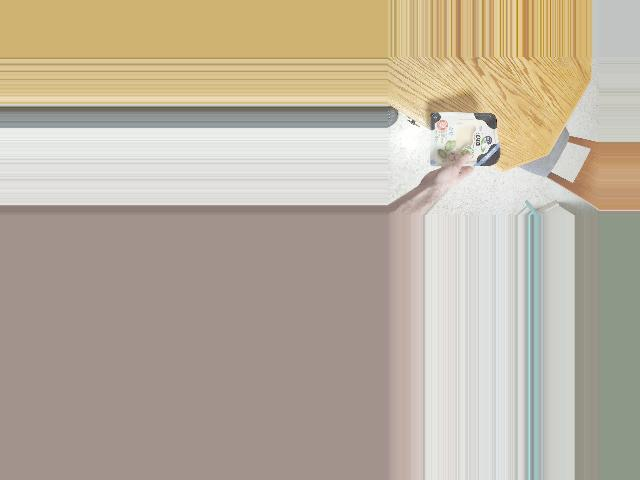cheese: (425, 113, 500, 170)
